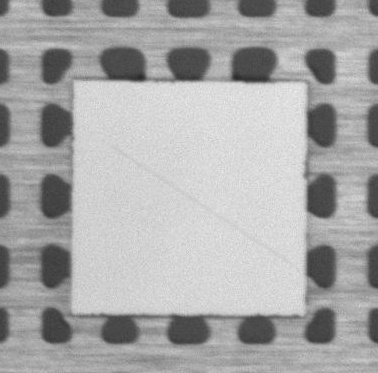DIE_CRACK: (115, 145, 296, 261)
